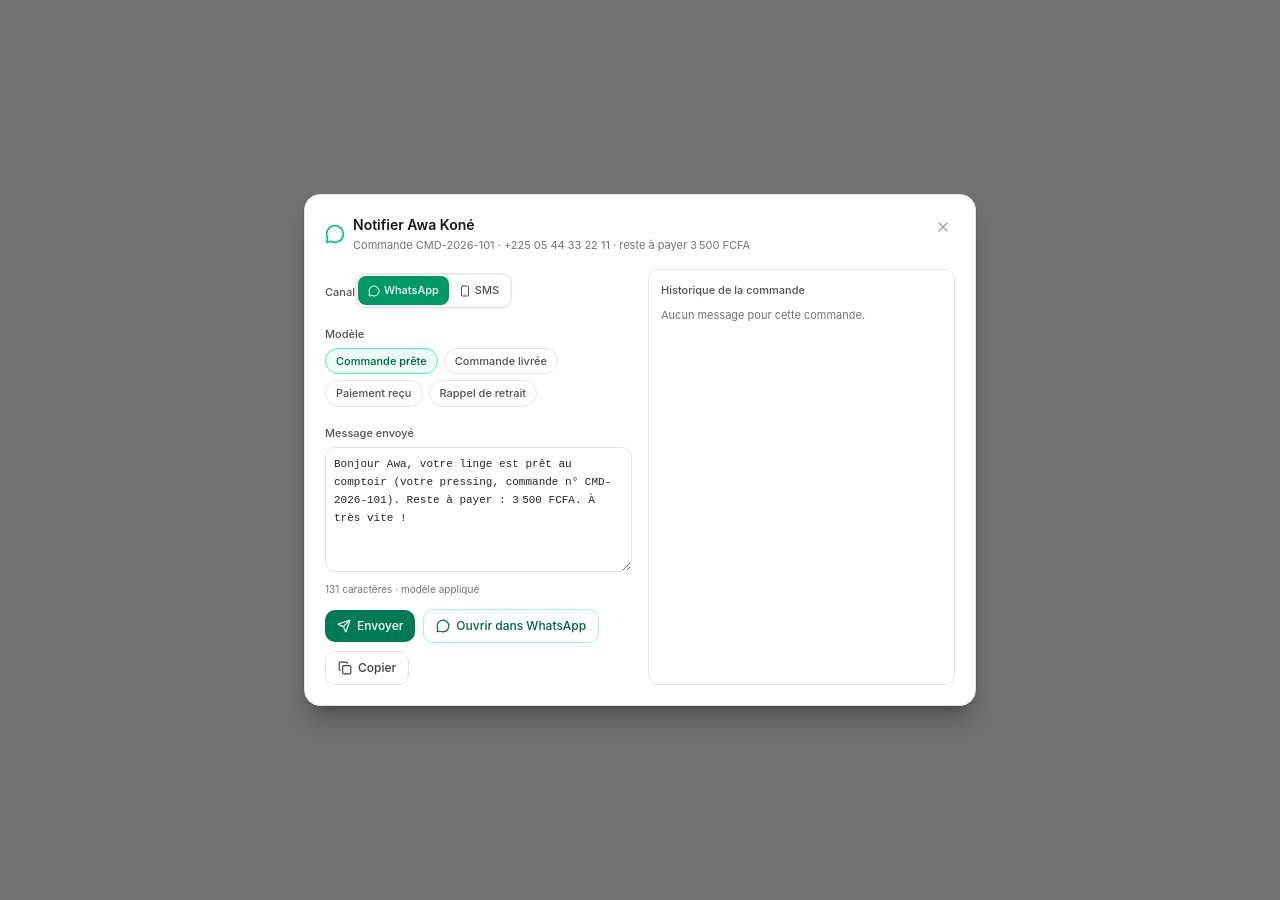
Scenario: ClientNotificationModal › journalise le message et rafraîchit l’historique après envoi
Expected: the list item "Aucun message pour cette commande." is shown, [661,308,865,322]
Click the button "Envoyer": (370, 626) [325,610,415,642]
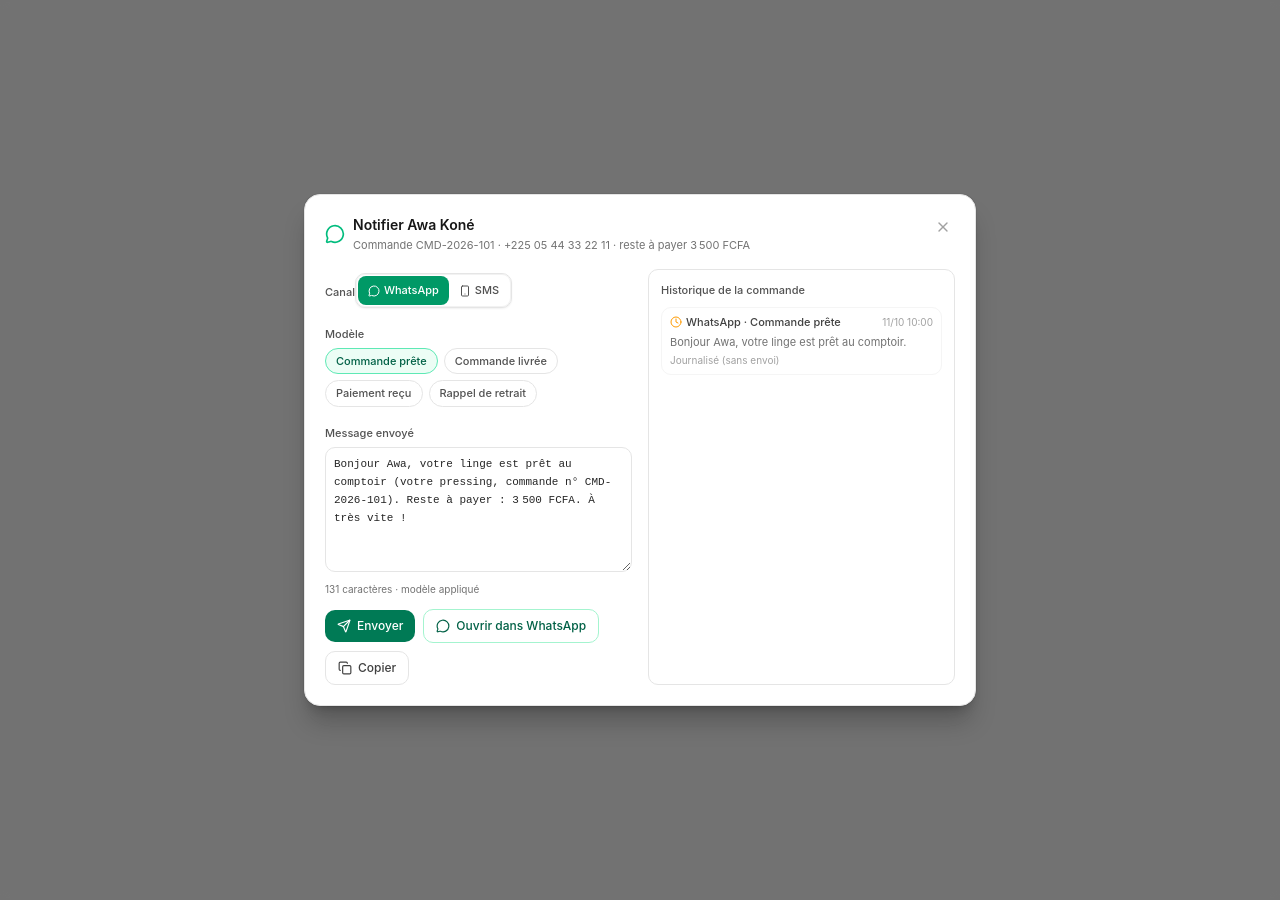
Now the text "Journalisé (sans envoi)" is shown, box [670,354,780,366]
